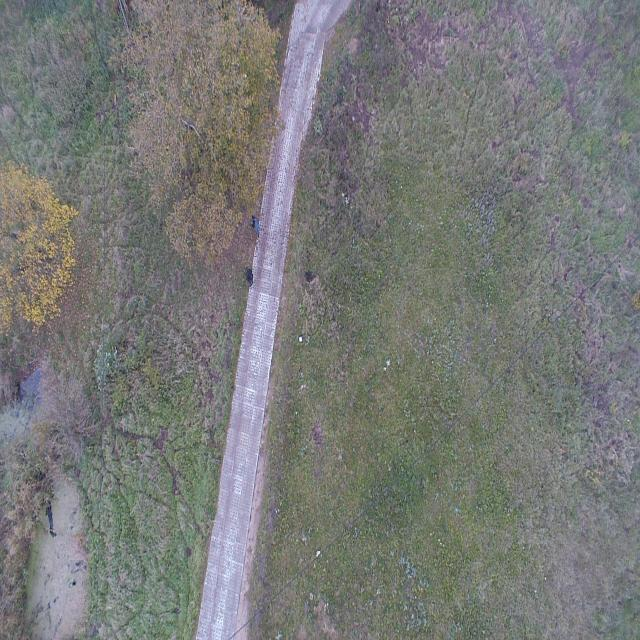p3rson: (251, 216, 260, 238), (246, 266, 254, 286)
